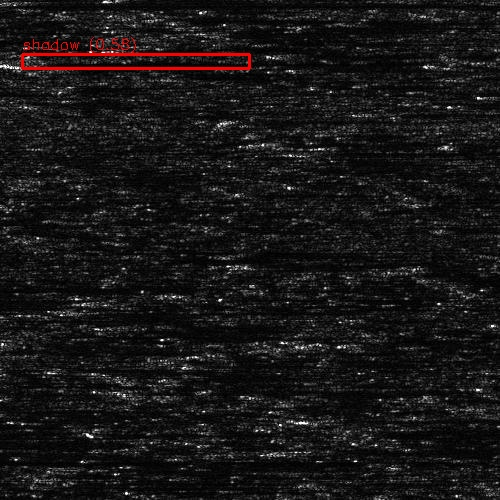rock: (208, 143, 405, 158), (243, 131, 326, 152), (275, 446, 338, 457), (0, 55, 34, 68), (478, 144, 500, 155)
shadow: (14, 55, 382, 68), (285, 131, 500, 152), (307, 143, 465, 158), (0, 451, 212, 458), (307, 446, 393, 457)
